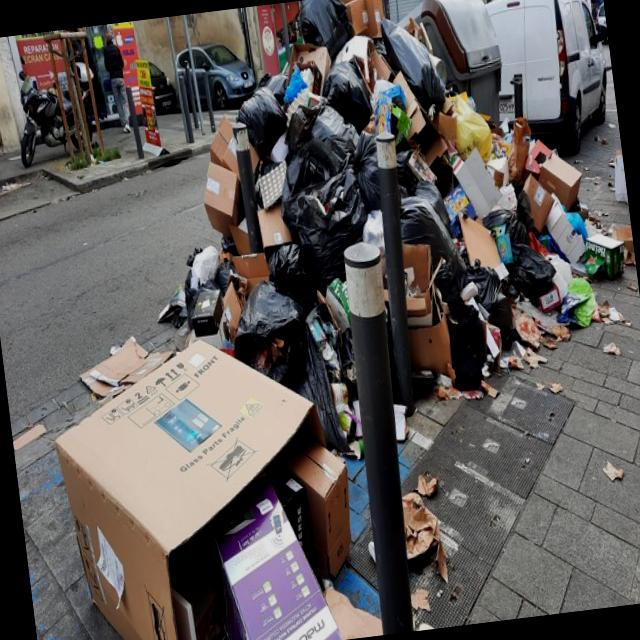garbage: (97, 22, 640, 640)
